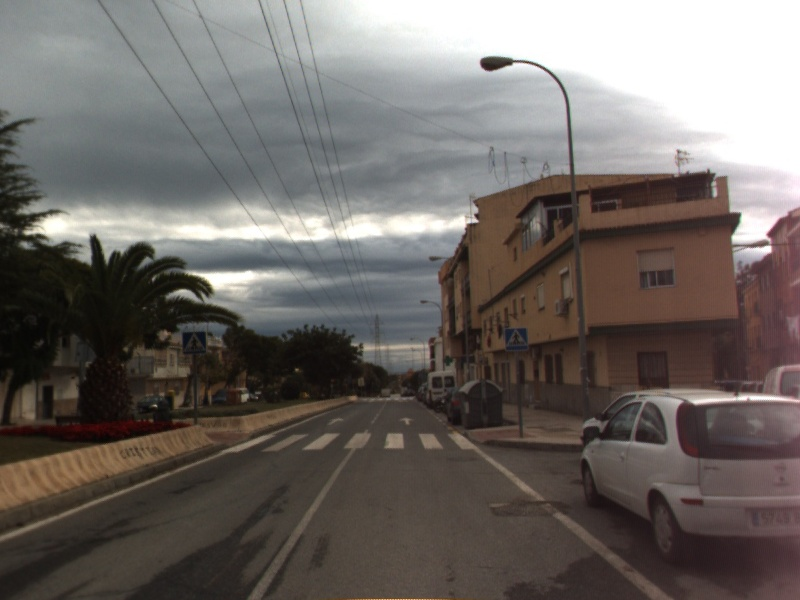STRAIGHT: (324, 415, 347, 427), (397, 415, 417, 427)
